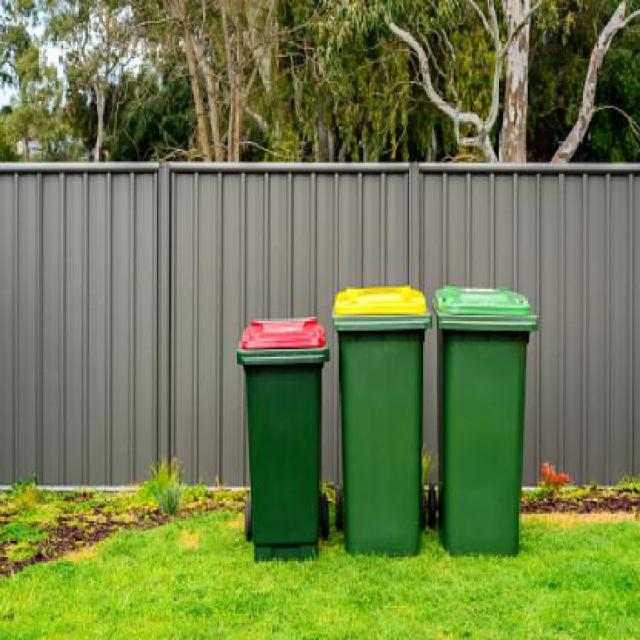garbage container: (428, 270, 543, 559), (322, 277, 428, 568), (233, 302, 332, 576)
